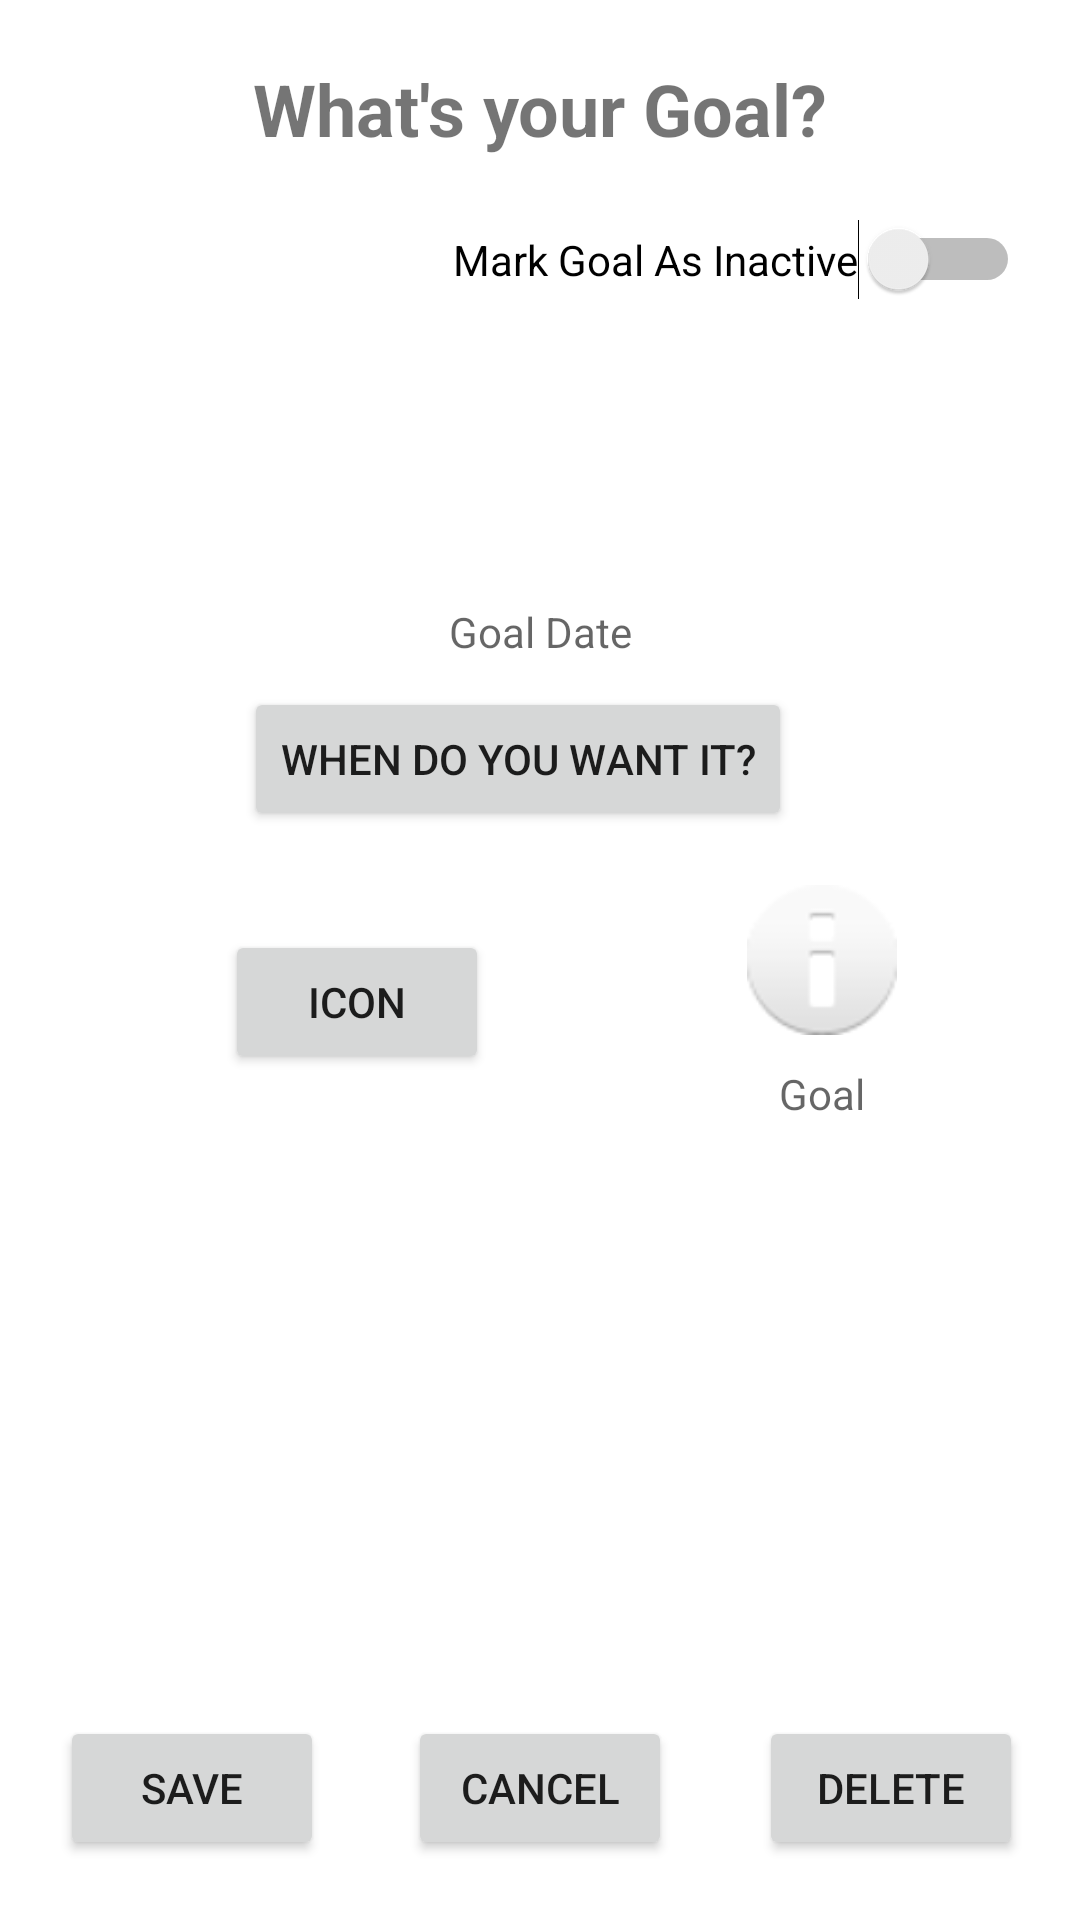

Named icons in this screenshot (1080px×1920px) and their centers, point (x, y):
info: point (822, 973)
